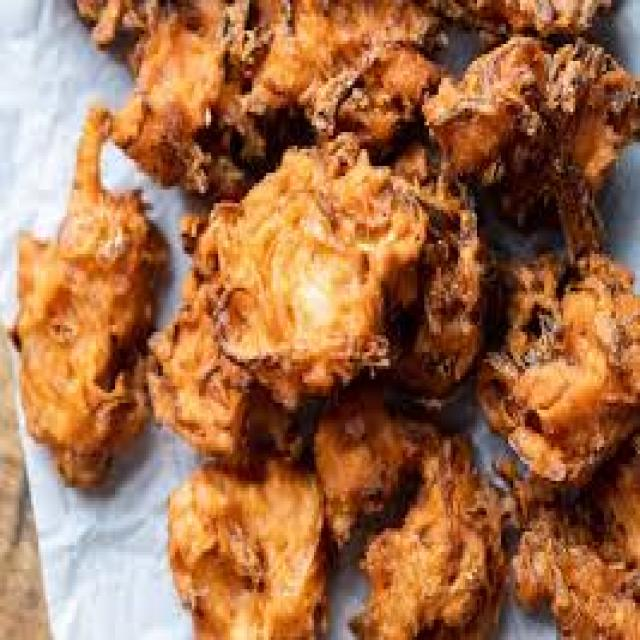BAJI: (85, 0, 638, 635), (23, 101, 170, 474)
